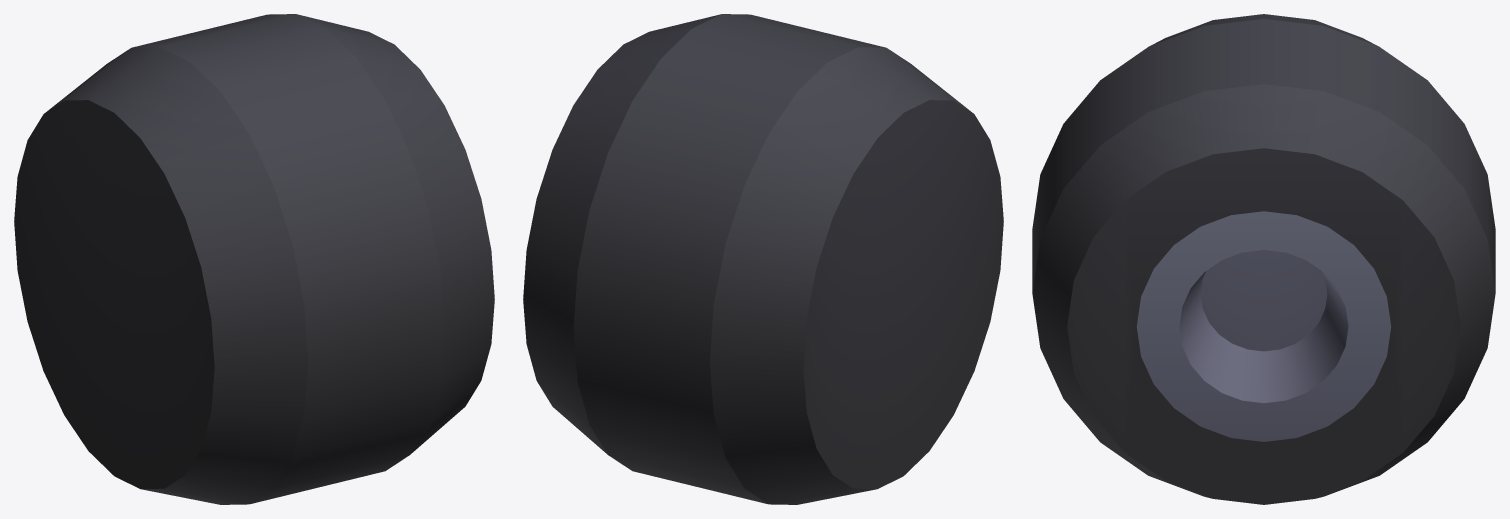
File: wheel_tractor_dark_front.glb
3 views of the same model, side by side, from view 1: azimuth 30°, elevation 25°; view 2: azimuth 150°, elevation 25°; view 3: azimuth 270°, elevation 25° (orthographic).
Parts seen in each view (by area): view 1: wheel-tractor-dark-front; view 2: wheel-tractor-dark-front; view 3: wheel-tractor-dark-front.
Part boxes in pixels (bbox=[...]): wheel-tractor-dark-front: bbox=[14, 14, 494, 504]; wheel-tractor-dark-front: bbox=[523, 14, 1003, 504]; wheel-tractor-dark-front: bbox=[1032, 14, 1495, 504].
Size of the model in its own units: 0.3693 by 0.5386 by 0.5386.
1 material, 1 textured.
